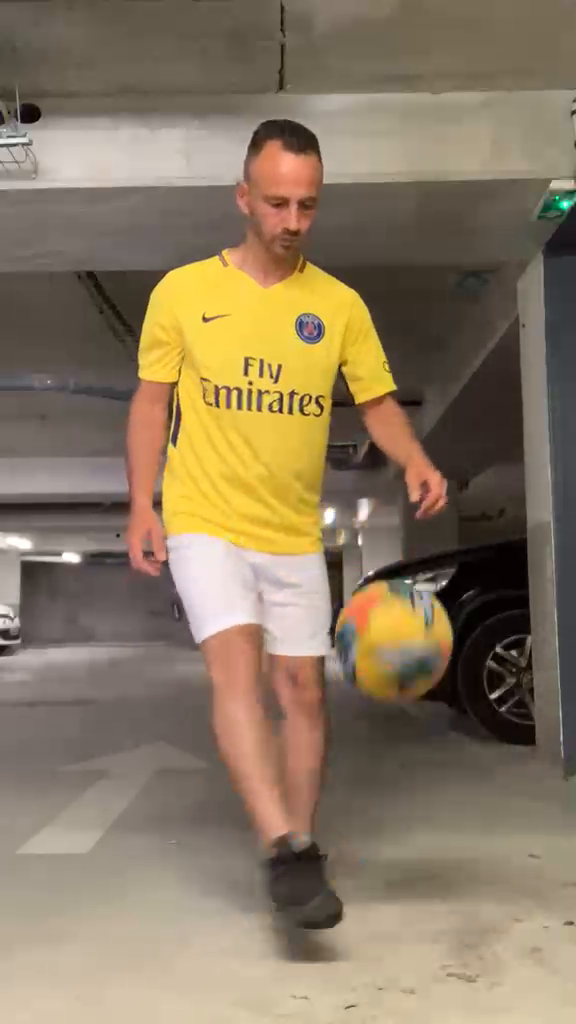ball: (332, 578, 456, 702)
